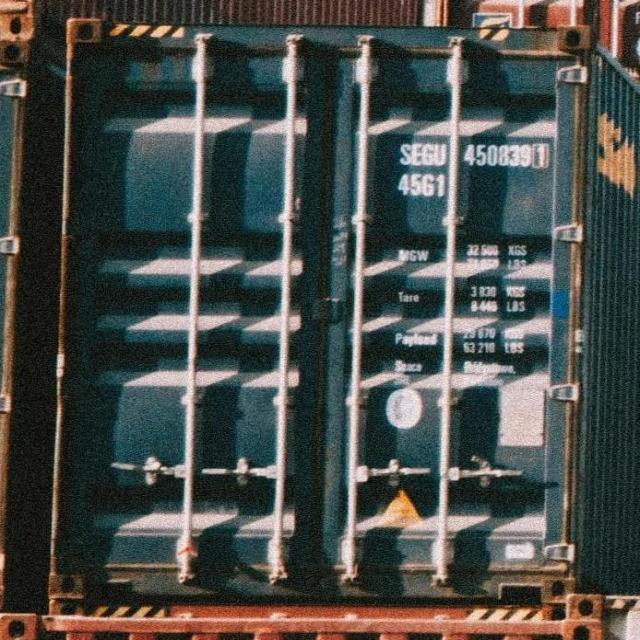ISO: (396, 173, 454, 198)
container_number: (399, 136, 548, 170)
